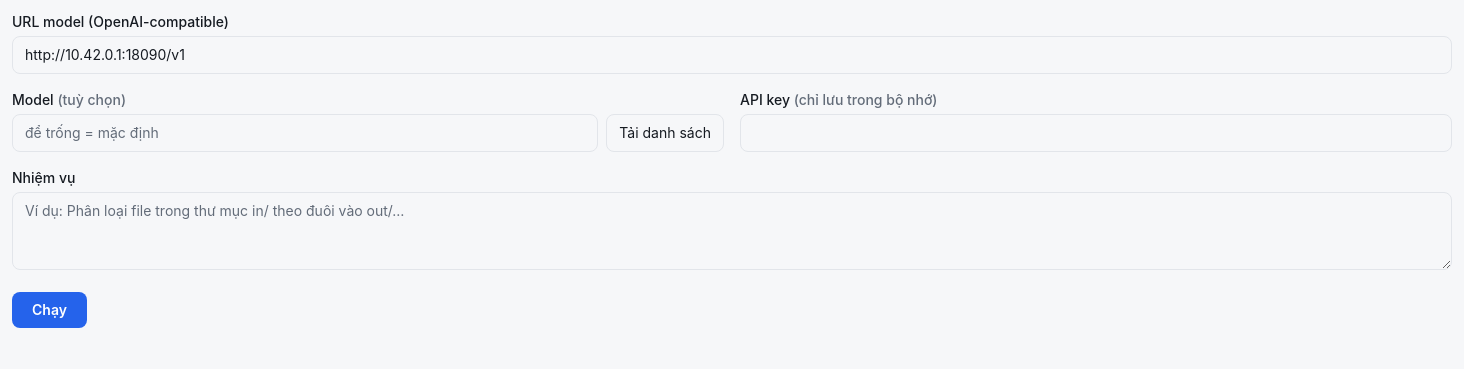
Test: ConfigForm › blocks submit and shows errors when task is empty
The image size is (1464, 369).
Click the button "Chạy": (49, 310) [12,292,87,328]
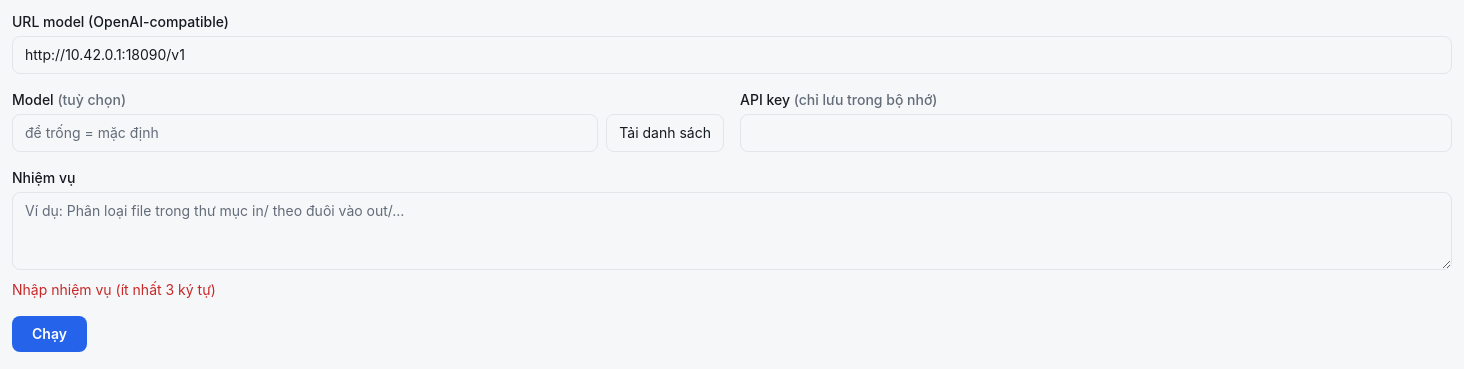
Result: the text "Nhập nhiệm vụ (ít nhất 3 ký tự)" is shown at [12,281,216,298]
